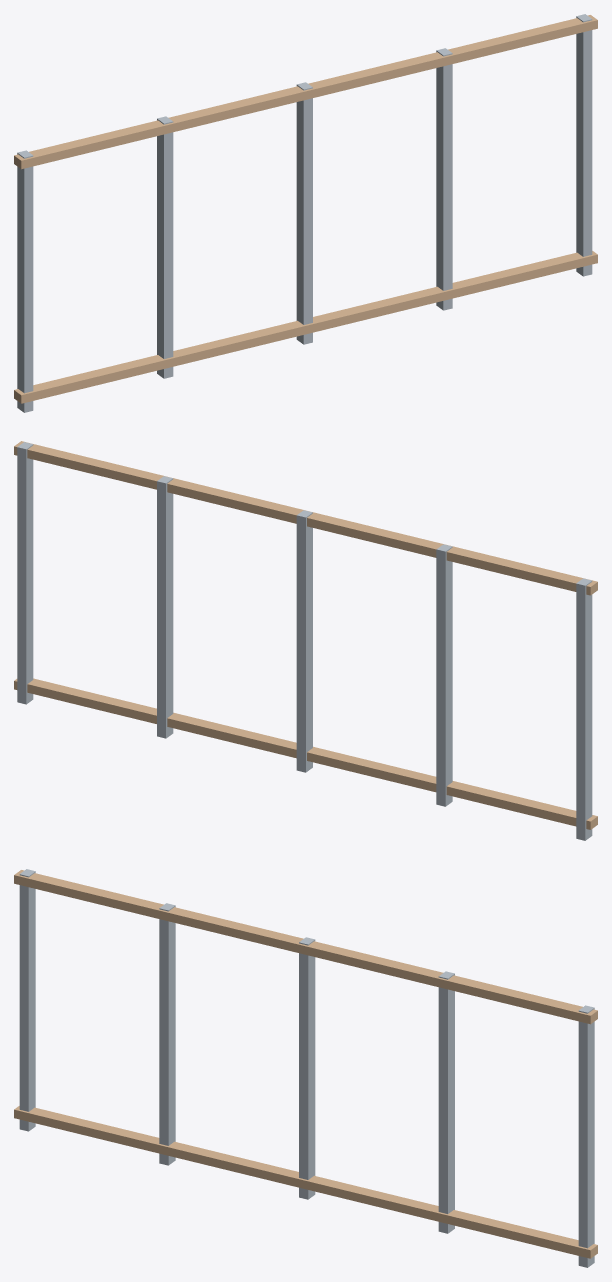
Rendered from 06_PS_Studio_PanoramicWindowMullions.glb.
3 renders of one model, top to bottom at view 1: azimuth 30°, elevation 25°; view 2: azimuth 150°, elevation 25°; view 3: azimuth 330°, elevation 25°, orthographic.
Parts seen in each view (by area): view 1: PS_Studio_PanoramicWindowMullions; view 2: PS_Studio_PanoramicWindowMullions; view 3: PS_Studio_PanoramicWindowMullions.
Part boxes in pixels (left/top/right/bottom): PS_Studio_PanoramicWindowMullions: left=14, top=14, right=597, bottom=412; PS_Studio_PanoramicWindowMullions: left=14, top=441, right=597, bottom=840; PS_Studio_PanoramicWindowMullions: left=14, top=869, right=597, bottom=1267.
Size of the model in its own units: 11.35 by 4.8 by 0.285.
